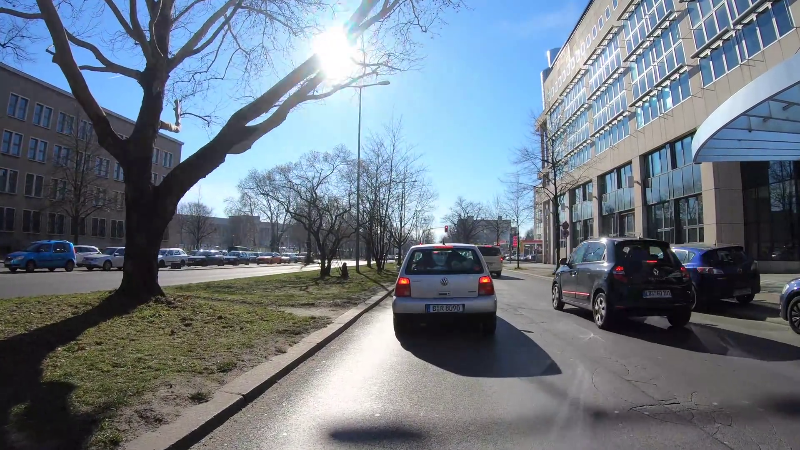Plate: (425, 303, 466, 313), (642, 289, 672, 300), (730, 286, 751, 295)
